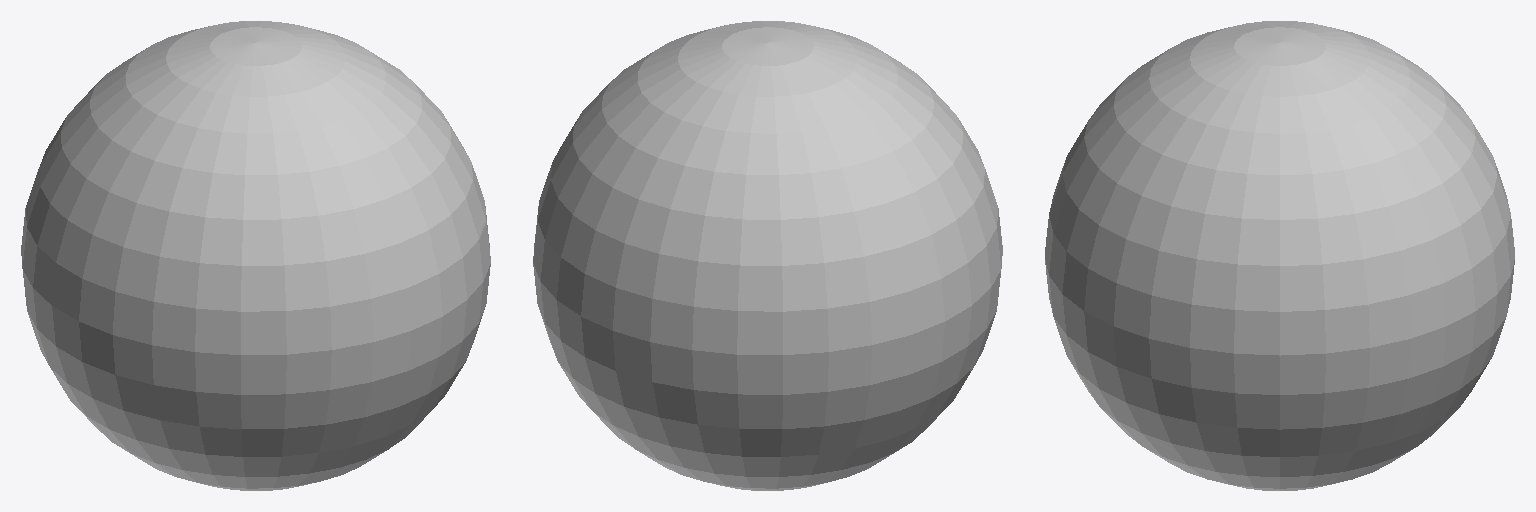
The model's file is fancySphere.obj.
3 renders of one model, left to right at view 1: azimuth 30°, elevation 25°; view 2: azimuth 150°, elevation 25°; view 3: azimuth 270°, elevation 25°, orthographic.
Parts seen in each view (by area): view 1: Sphere; view 2: Sphere; view 3: Sphere.
Boxes of the visible parts, box(x1,y1,x2,y2) form: Sphere: box(21, 21, 490, 490); Sphere: box(533, 21, 1002, 490); Sphere: box(1045, 21, 1514, 490).
Size of the model in its own units: 1 by 1 by 1.